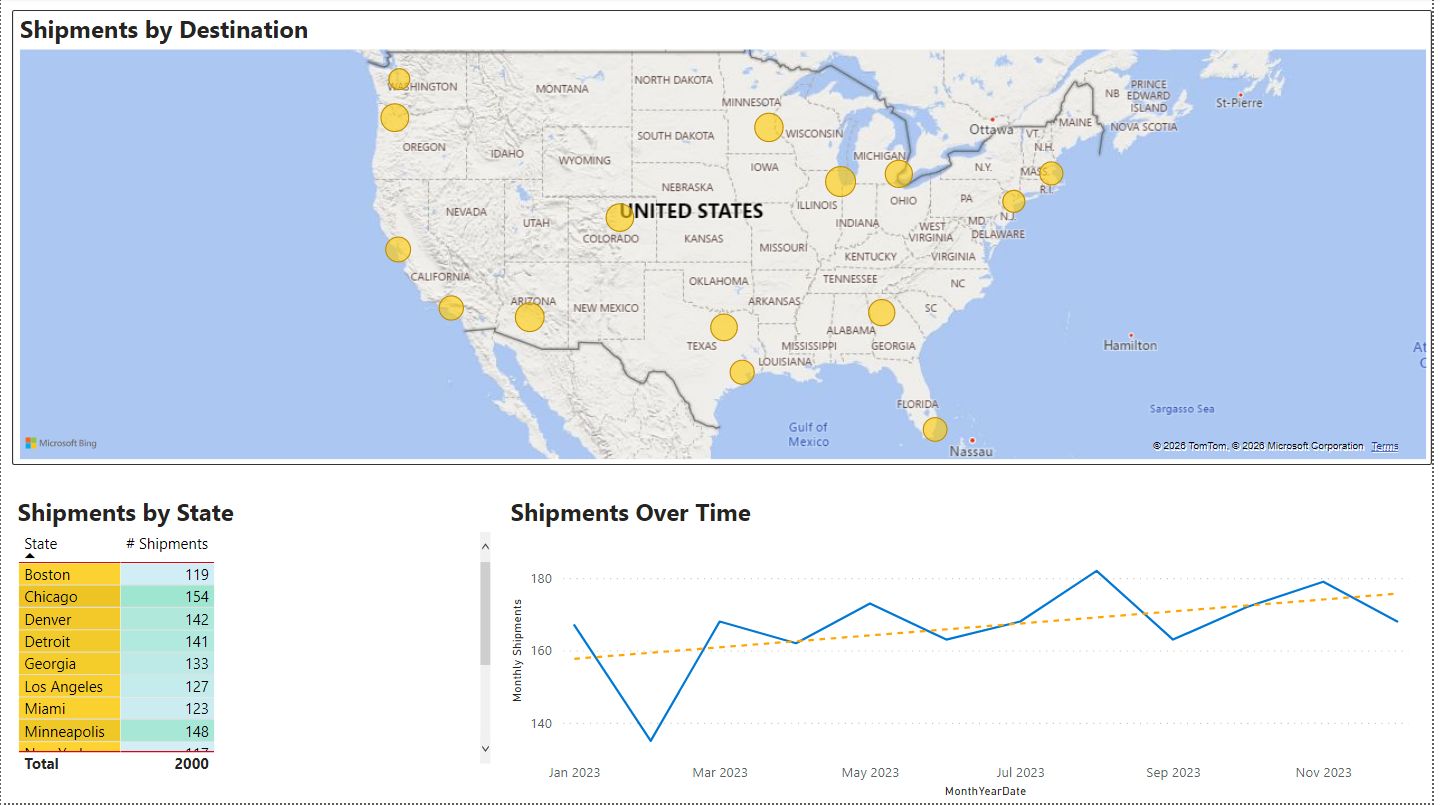

This screenshot's page, from the dashboard's own definition file:
{"tool":"powerbi","page":{"name":"Geographic Insights","canvas":[1280,720],"ordinal":2},"visuals":[{"type":"map","title":"Shipments by Destination","fields":{"Category":["TimeKPIs.Destination"],"Size":["TimeKPIs.Shipments by Destination"]},"box":[9.6,10.5,1270.4,407.5],"z":0},{"type":"tableEx","title":"Shipments by State","fields":{"Values":["cleaned_full.State","TimeKPIs.Shipments"]},"box":[9.8,444.5,432.9,254],"z":1000},{"type":"lineChart","title":"Shipments Over Time","fields":{"Y":["TimeKPIs.Monthly Shipments"],"Category":["cleaned_full.MonthYear"]},"box":[450.8,444.5,829.1,275.5],"z":2000}]}

Visuals, with their boxes in screenshot pixels (x1, y1, x2, y2), scaled from the page's 1280x720 canvas onto the 1440x805 screenshot:
"Shipments by Destination" map: l=11, t=12, r=1439, b=467
"Shipments by State" tableEx: l=11, t=497, r=498, b=781
"Shipments Over Time" lineChart: l=507, t=497, r=1439, b=804
